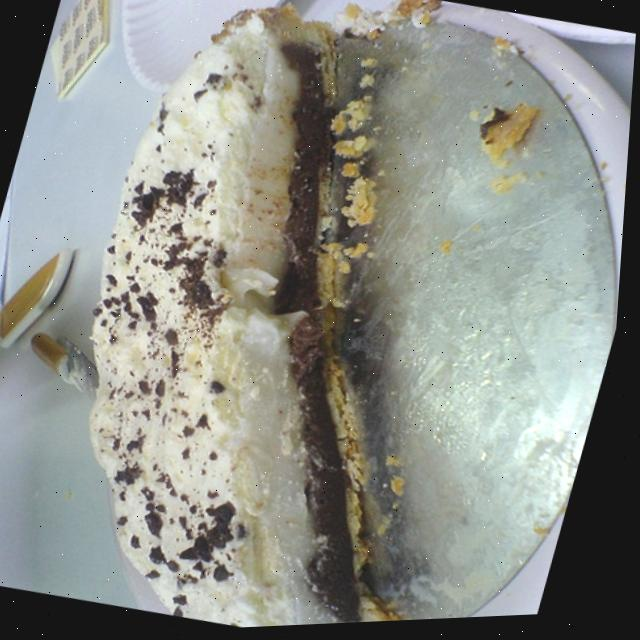蛋糕甜品: (5, 0, 579, 639)
